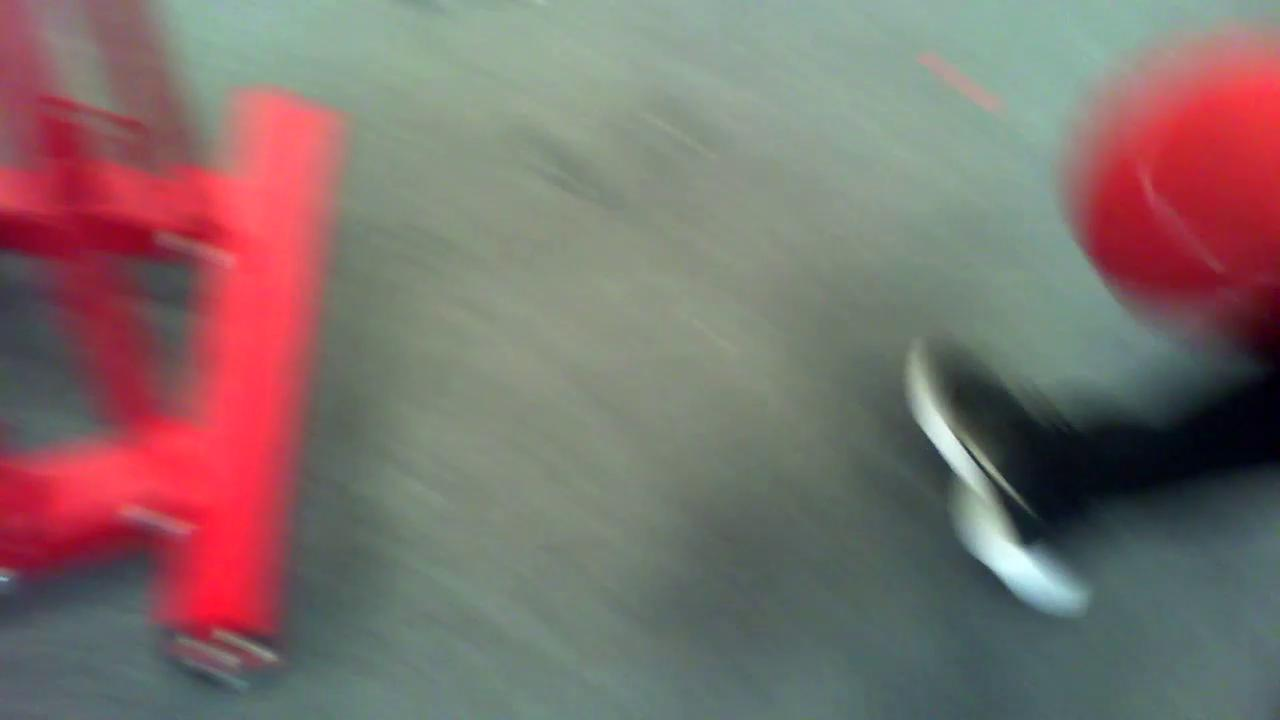Red_Ball: (1046, 60, 1280, 343)
